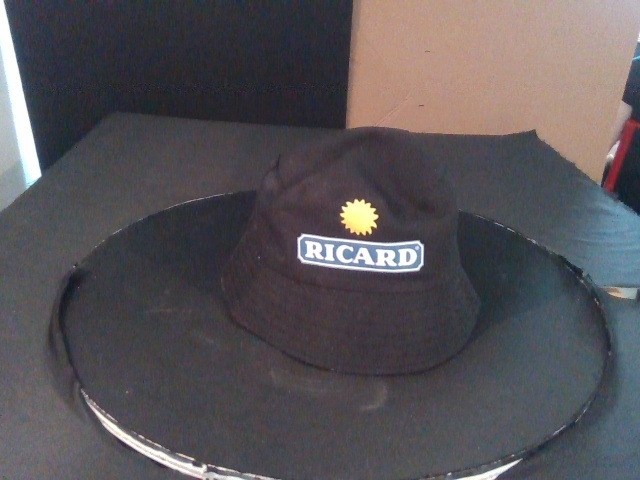hat: (218, 128, 483, 374)
